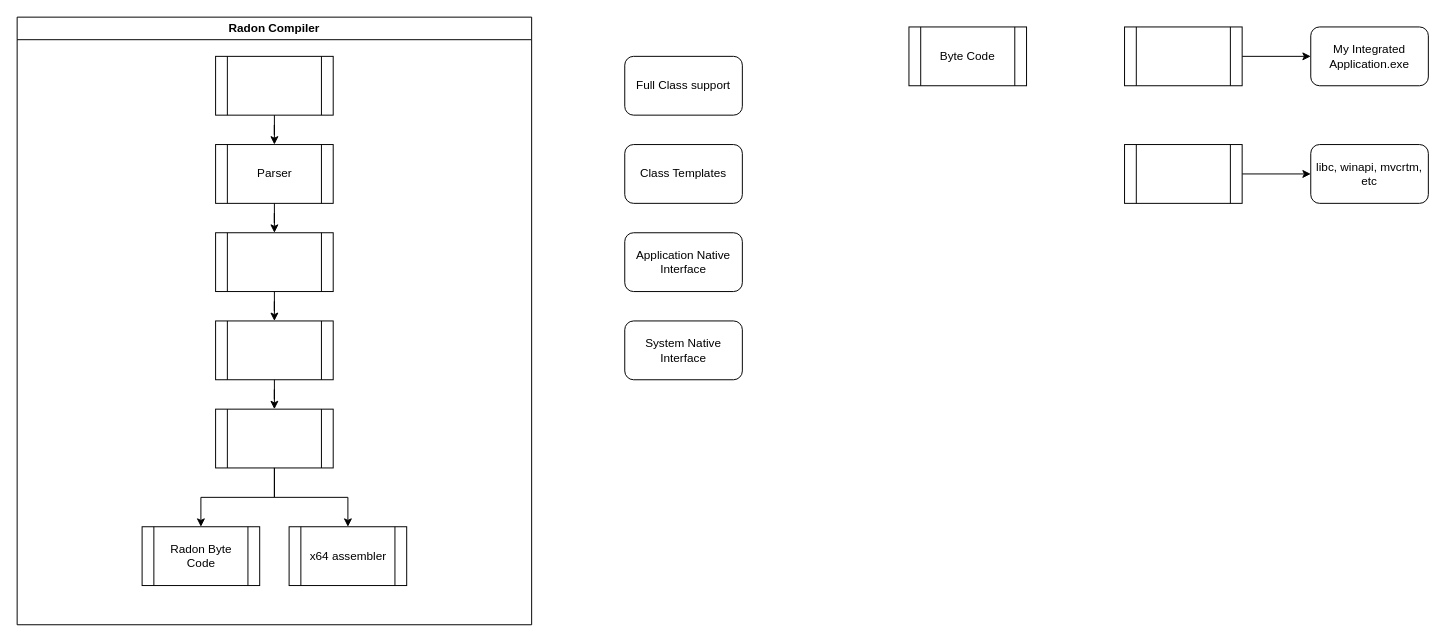
Some shapes in this 1446 by 642 pixel diagram are drawn without their labels. The centre of each missing label's shape, as x and y in pixels:
"Application Interface" belongs at point 1183,56.
"AST Generation" belongs at point 274,262.
"Code Generators" belongs at point 274,438.
"Immediate Representation" belongs at point 274,350.
"Lexer" belongs at point 274,85.
"Native Interface" belongs at point 1183,173.
